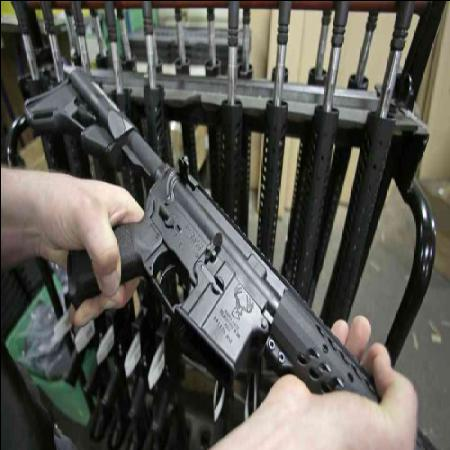Pistol: (65, 159, 289, 393)
